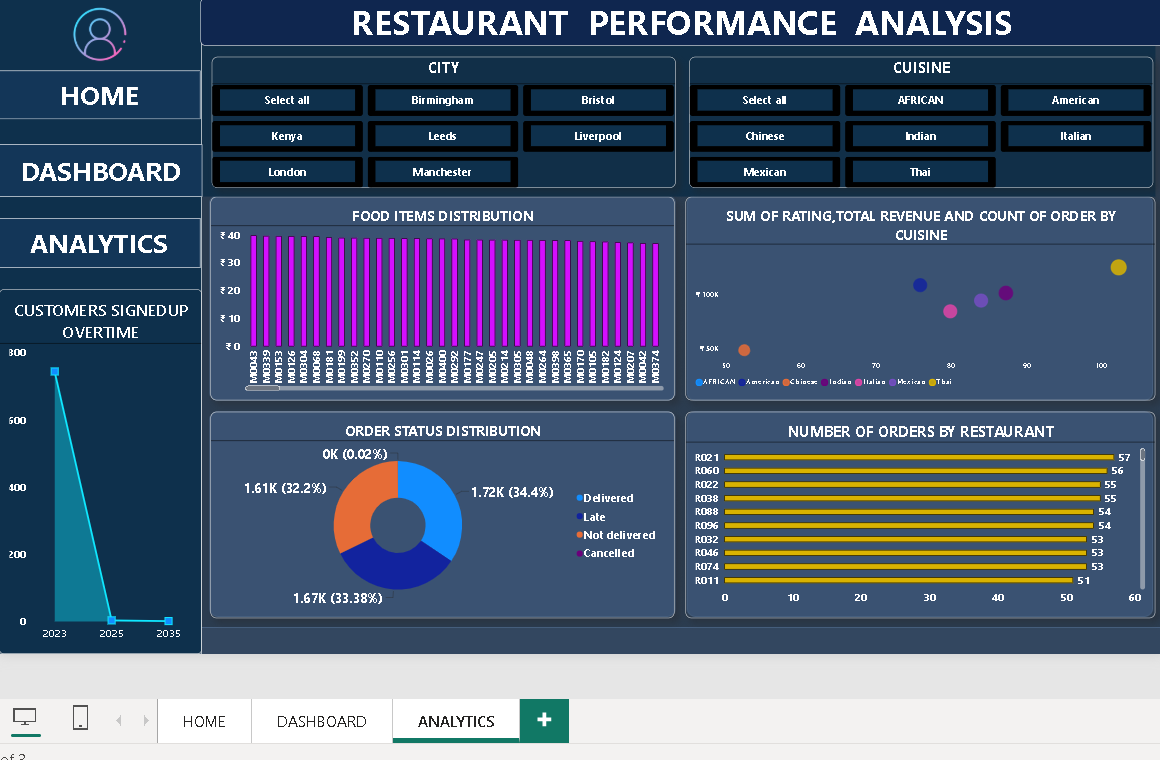

Layout of this report page (visuals, bound fields, positions):
{"tool":"powerbi","page":{"name":"ANALYTICS","canvas":[1920,1080],"ordinal":2},"visuals":[{"type":"columnChart","title":"FOOD ITEMS DISTRIBUTION","fields":{"Category":["food_delivery food_items.item_id"],"Y":["Sum(food_delivery food_items.price)"]},"box":[349.9,327.3,763.6,335.5],"z":0},{"type":"scatterChart","title":"SUM OF RATING,TOTAL REVENUE AND COUNT OF ORDER BY CUISINE","fields":{"X":["Sum(food_delivery restaurants.rating)"],"Y":["food_delivery customers_medium.Total Revenue"],"Size":["CountNonNull(food_delivery ordertwo.order_id)"],"Series":["food_delivery restaurants.cuisine"]},"box":[1132.1,327.3,773.9,335.5],"z":1000},{"type":"donutChart","title":"ORDER  STATUS  DISTRIBUTION","fields":{"Category":["food_delivery ordertwo.status"],"Y":["CountNonNull(food_delivery ordertwo.order_id)"]},"box":[349.9,681.3,763.6,339.6],"z":2000},{"type":"barChart","title":"NUMBER  OF  ORDERS  BY  RESTAURANT","fields":{"Category":["food_delivery ordertwo.restaurant_id"],"Y":["CountNonNull(food_delivery ordertwo.order_id)"]},"box":[1132.1,681.3,773.9,339.6],"z":3000},{"type":"textbox","box":[335.5,78.2,1570.5,249.1],"z":4000},{"type":"advancedSlicerVisual","title":"CITY","fields":{"Values":["food_delivery customers_medium.city"]},"box":[352,96.7,763.6,216.1],"z":5000},{"type":"advancedSlicerVisual","title":"CUISINE","fields":{"Values":["food_delivery restaurants.cuisine"]},"box":[1138.3,96.7,763.6,216.1],"z":6000},{"type":"shape","box":[2.1,0,333.4,1080.6],"z":7000},{"type":"shape","box":[0,119.4,333.4,80.3],"z":8000},{"type":"shape","box":[2.1,240.8,334.5,86.8],"z":9000},{"type":"shape","box":[0,362.3,333.4,82.3],"z":10000},{"type":"textbox","box":[333.4,0,1587,78.2],"z":11000},{"type":"image","box":[94.7,0,146.1,119.4],"z":15000},{"type":"lineChart","title":"CUSTOMERS  SIGNEDUP OVERTIME","fields":{"Category":["food_delivery customers_medium.signup_date.Variation.Date Hierarchy.Year","food_delivery customers_medium.signup_date.Variation.Date Hierarchy.Month"],"Y":["CountNonNull(food_delivery customers_medium.customer_id)"]},"box":[2.1,479.6,333.4,601],"z":16000}]}

Visuals, with their boxes on the page's 1920x1080 design canvas (x1, y1, x2, y2). These are canvas units, not pixel positions in the 1160x760 screenshot, which may show the page scaled, cropped or inside an application window:
"FOOD ITEMS DISTRIBUTION" columnChart: [350,327,1114,663]
"SUM OF RATING,TOTAL REVENUE AND COUNT OF ORDER BY CUISINE" scatterChart: [1132,327,1906,663]
"ORDER  STATUS  DISTRIBUTION" donutChart: [350,681,1114,1021]
"NUMBER  OF  ORDERS  BY  RESTAURANT" barChart: [1132,681,1906,1021]
textbox: [336,78,1906,327]
"CITY" advancedSlicerVisual: [352,97,1116,313]
"CUISINE" advancedSlicerVisual: [1138,97,1902,313]
shape: [2,0,336,1081]
shape: [0,119,333,200]
shape: [2,241,337,328]
shape: [0,362,333,445]
textbox: [333,0,1920,78]
image: [95,0,241,119]
"CUSTOMERS  SIGNEDUP OVERTIME" lineChart: [2,480,336,1081]
